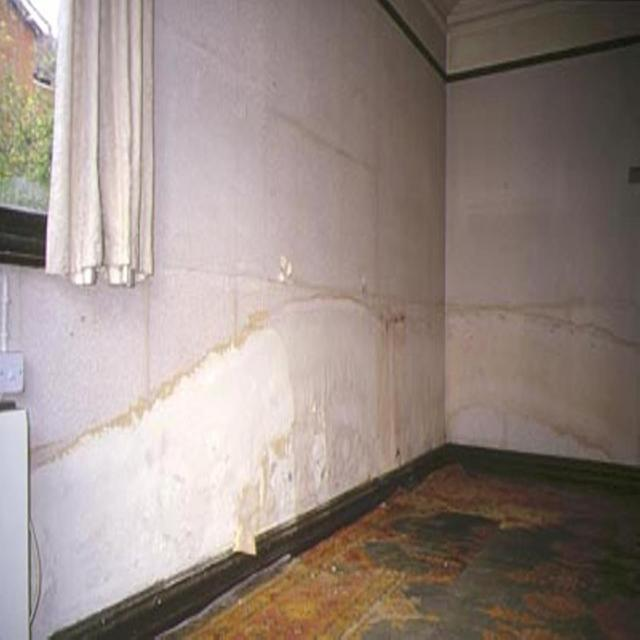damp: (6, 0, 443, 637), (448, 9, 640, 475)
